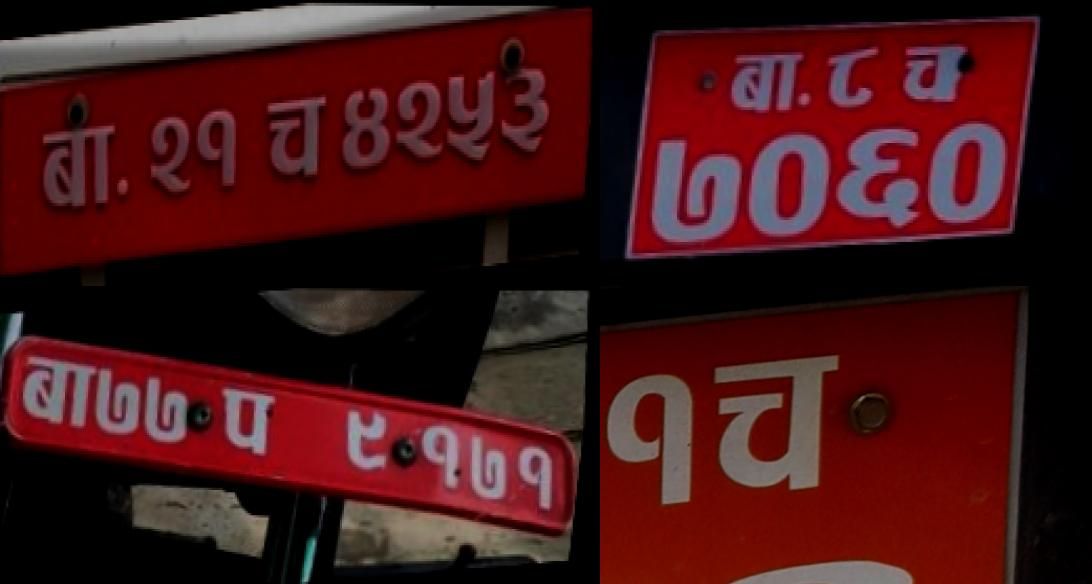0: (741, 122, 846, 241), (922, 108, 1021, 227)
1: (600, 357, 719, 518), (188, 98, 252, 210), (516, 436, 573, 514), (416, 421, 474, 494)
2: (387, 66, 454, 173), (140, 103, 202, 212)
3: (689, 537, 963, 584), (493, 50, 561, 165)
4: (332, 79, 401, 179)
5: (438, 57, 508, 172)
6: (831, 115, 939, 234)
7: (644, 130, 756, 248), (138, 367, 204, 448), (465, 430, 522, 511), (88, 360, 150, 434)
8: (817, 41, 892, 110)
9: (338, 406, 406, 478)
ba: (32, 110, 130, 226), (16, 346, 105, 440), (724, 45, 817, 117)
cha: (697, 344, 864, 509), (256, 82, 336, 189), (896, 39, 979, 108)
pa: (204, 374, 292, 464)
